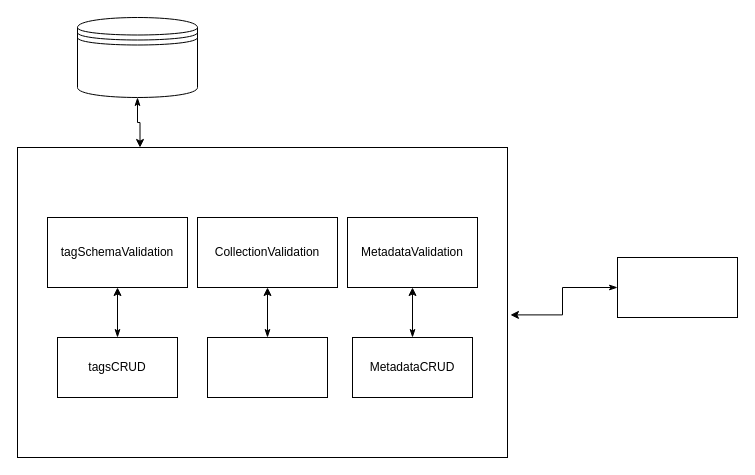
Some shapes in this 755 by 475 pixel diagram are drawn without their labels. The centre of each missing label's shape, as x and y in pixels:
api: point (677, 287)
CollectionsCRUD: point (267, 367)
DynamoDB: point (137, 57)
